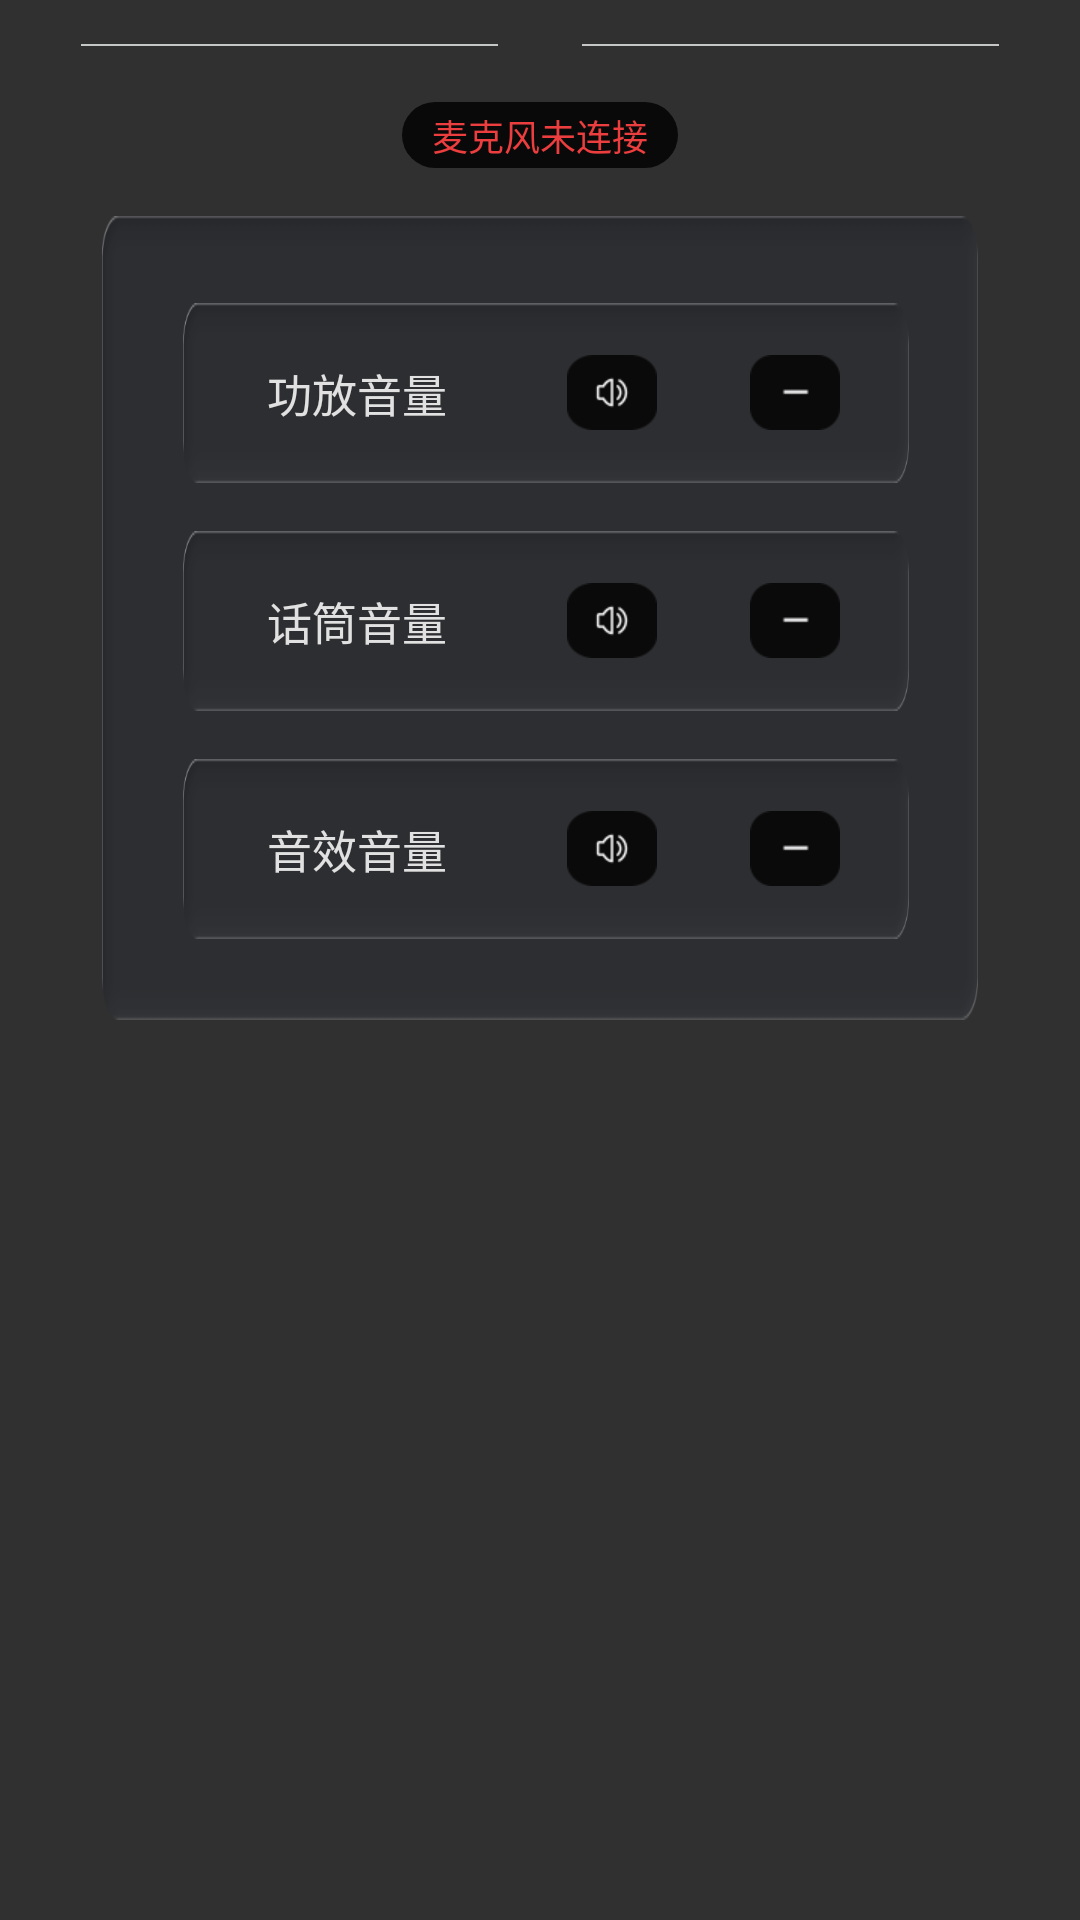

Where icons sit on this 1080*1920 app screen, as Rect(x1, y1, x2, y2):
volume down: Rect(750, 355, 840, 430), Rect(750, 583, 840, 658), Rect(750, 811, 840, 886)
